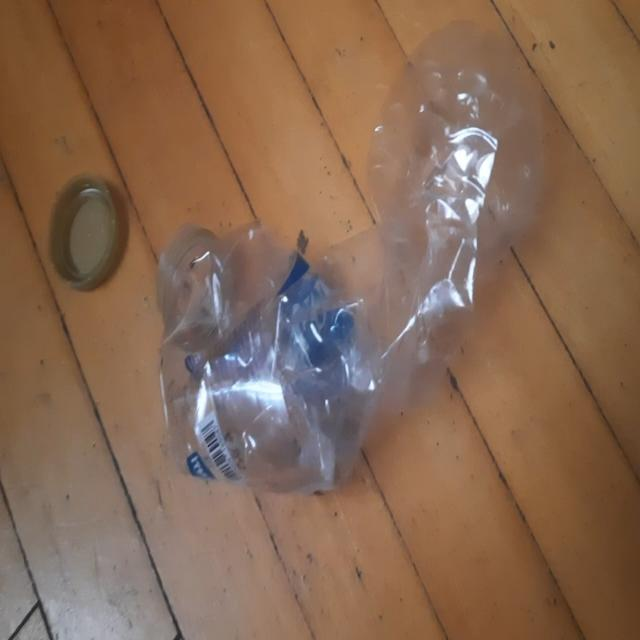Plastic: (157, 18, 545, 495)
